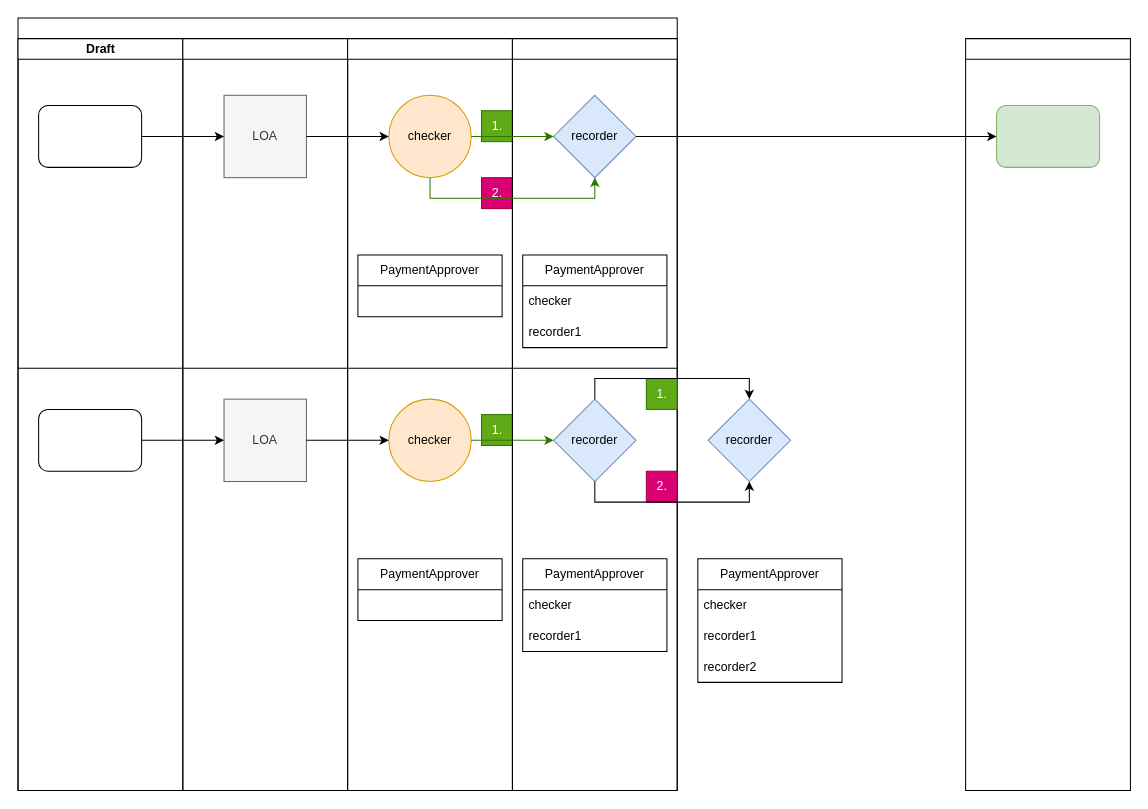
This 1148x809 diagram has some shape labels left out. Each missing label, with the box of its shape:
Done: (965, 38, 1130, 791)
For Record: (511, 38, 677, 791)
In Review: (347, 38, 512, 791)
Pool: (17, 17, 677, 791)
Waiting: (182, 38, 348, 791)
